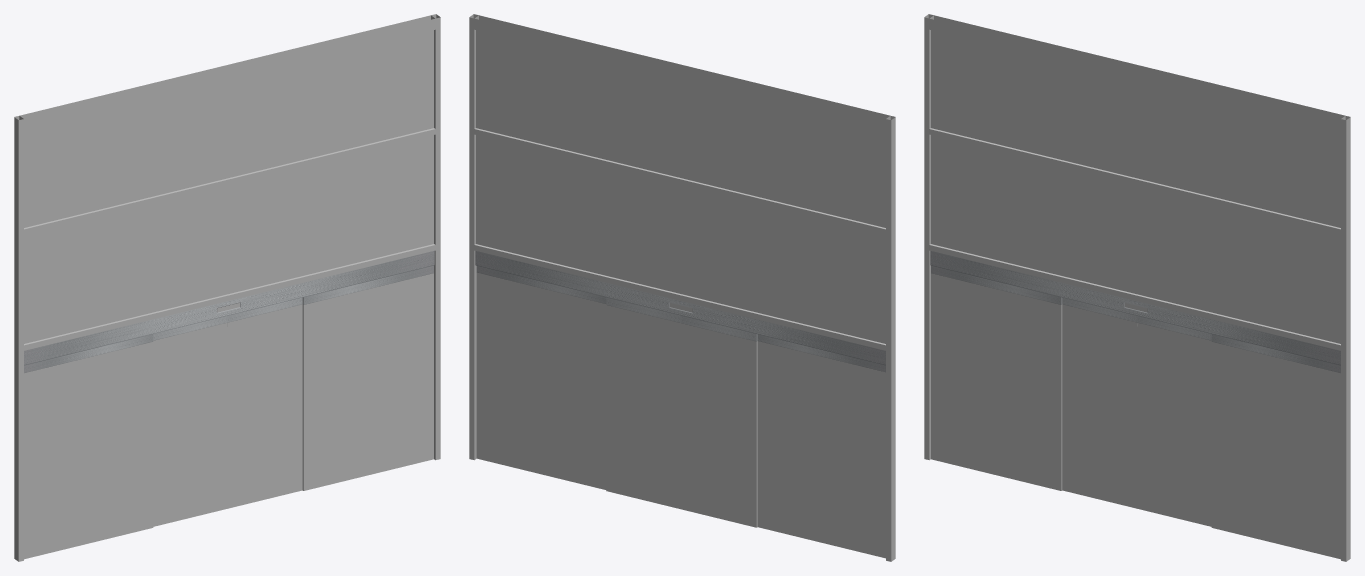
3 renders of one model, left to right at view 1: azimuth 30°, elevation 25°; view 2: azimuth 150°, elevation 25°; view 3: azimuth 330°, elevation 25°, orthographic.
Visible parts, largest first — view 1: M_W_003_a_8x8_window, M_W_003_a_8x8, M_W_003_a_8x8_door_b_window, M_W_003_a_8x8_door_a_window, M_W_003_a_8x8_door_b, M_W_003_a_8x8_door_a; view 2: M_W_003_a_8x8_window, M_W_003_a_8x8, M_W_003_a_8x8_door_a_window, M_W_003_a_8x8_door_b_window, M_W_003_a_8x8_door_a, M_W_003_a_8x8_door_b; view 3: M_W_003_a_8x8_window, M_W_003_a_8x8, M_W_003_a_8x8_door_a_window, M_W_003_a_8x8_door_b_window, M_W_003_a_8x8_door_a, M_W_003_a_8x8_door_b.
Boxes of the visible parts, <box> form: M_W_003_a_8x8_window: <box>24,30,433,559</box>; M_W_003_a_8x8: <box>14,14,440,561</box>; M_W_003_a_8x8_door_b_window: <box>227,304,302,508</box>; M_W_003_a_8x8_door_a_window: <box>153,323,227,526</box>; M_W_003_a_8x8_door_b: <box>227,297,302,322</box>; M_W_003_a_8x8_door_a: <box>153,316,227,340</box>; M_W_003_a_8x8_window: <box>476,30,885,558</box>; M_W_003_a_8x8: <box>469,14,895,561</box>; M_W_003_a_8x8_door_a_window: <box>681,323,757,527</box>; M_W_003_a_8x8_door_b_window: <box>606,305,681,509</box>; M_W_003_a_8x8_door_a: <box>681,316,757,341</box>; M_W_003_a_8x8_door_b: <box>606,297,681,323</box>; M_W_003_a_8x8_window: <box>931,30,1340,559</box>; M_W_003_a_8x8: <box>924,14,1350,561</box>; M_W_003_a_8x8_door_a_window: <box>1062,304,1137,508</box>; M_W_003_a_8x8_door_b_window: <box>1137,322,1211,526</box>; M_W_003_a_8x8_door_a: <box>1062,297,1137,322</box>; M_W_003_a_8x8_door_b: <box>1137,316,1211,340</box>.
Bounding box in the file's own units: 8 × 8 × 0.15.
